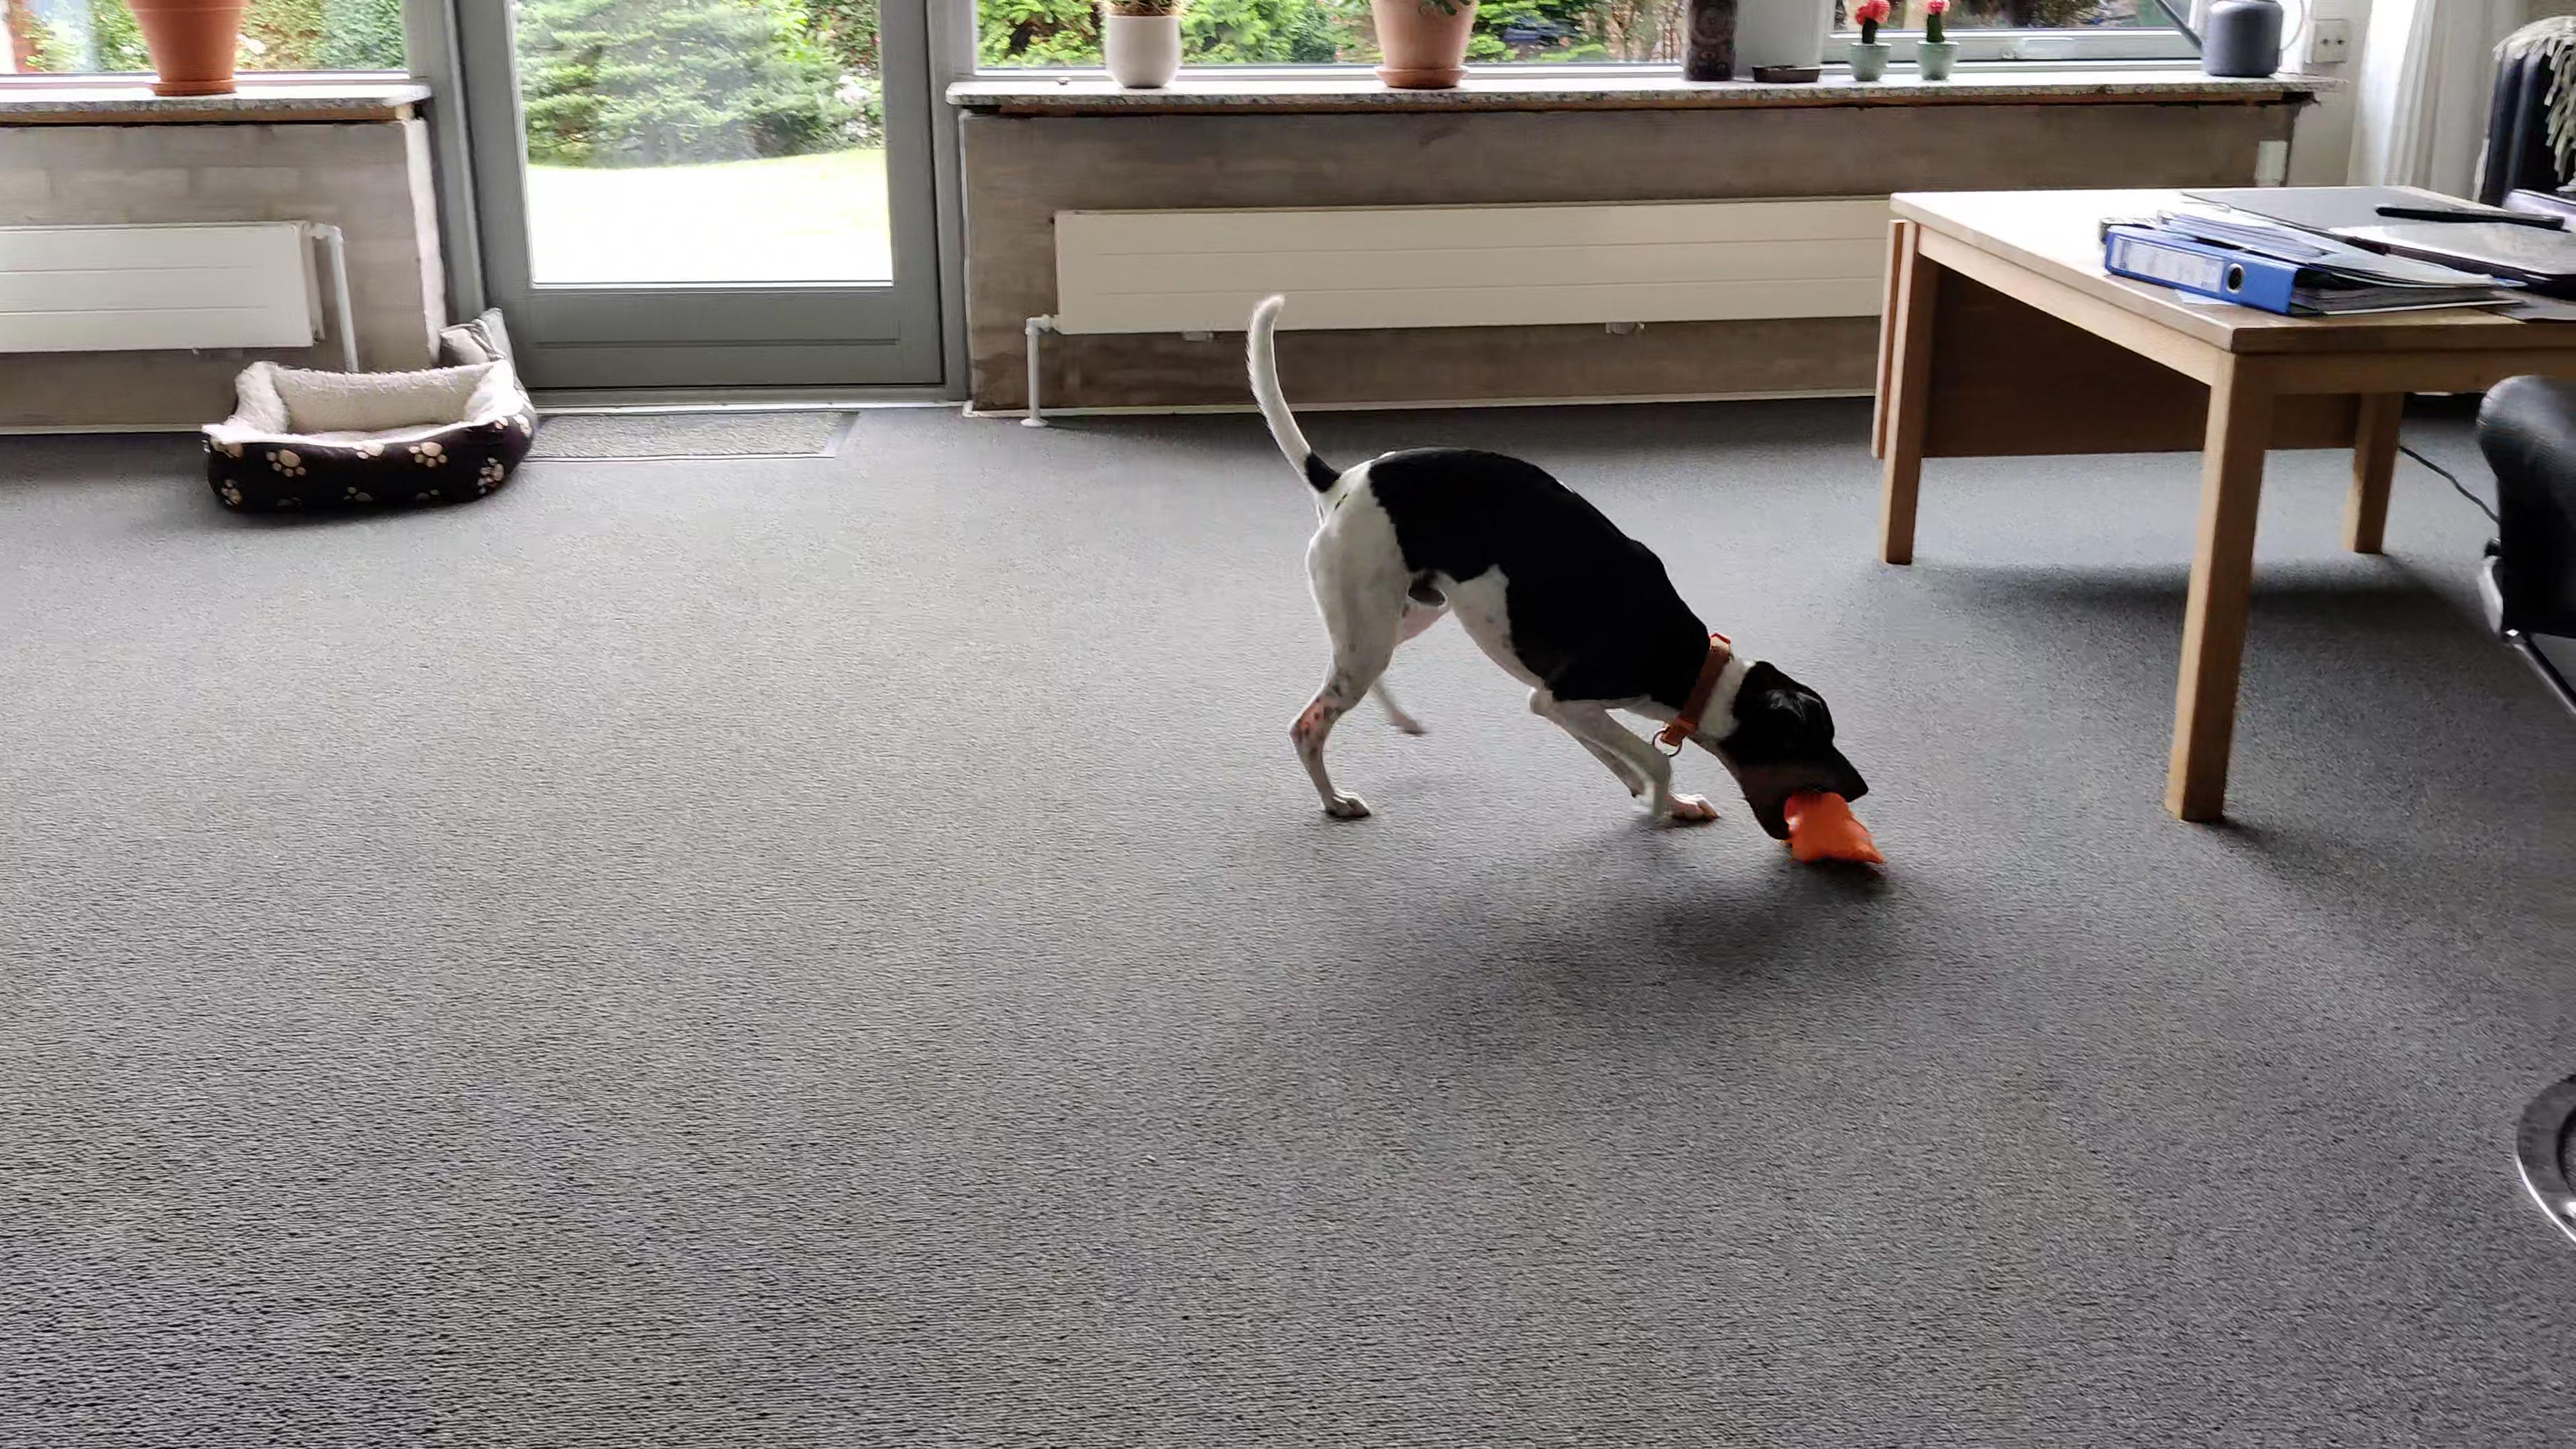Dog: (1238, 288, 1872, 842)
